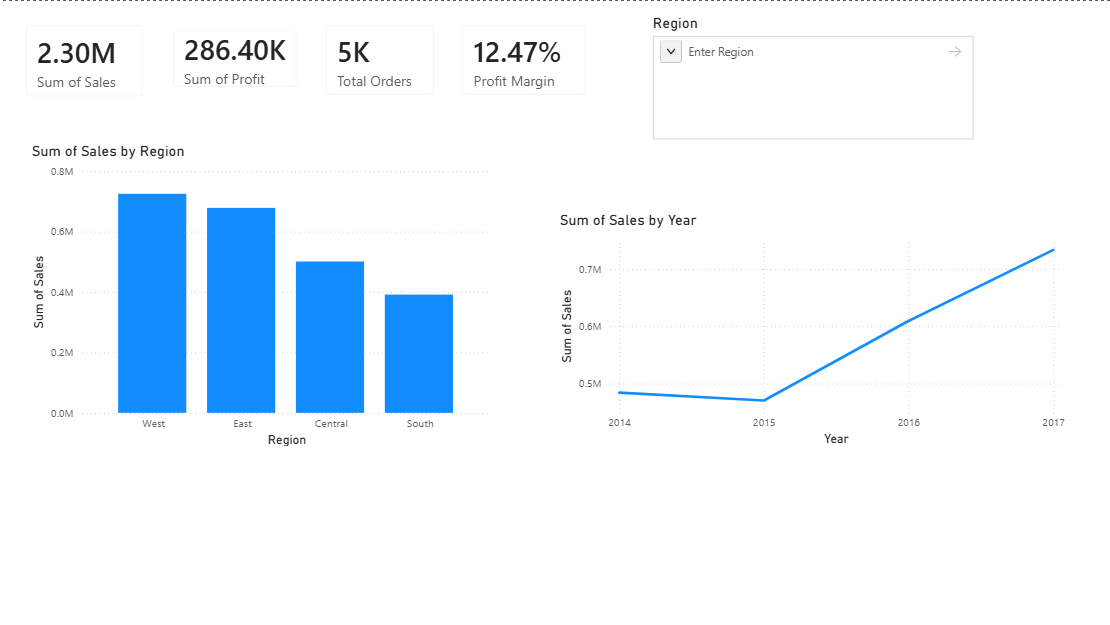

The dashboard page shown, as its layout file describes it:
{"tool":"powerbi","page":{"name":"Executive Dashboard","canvas":[1280,720],"ordinal":0},"visuals":[{"type":"cardVisual","fields":{"Data":["Sum(superstore_cleaned.Sales)"]},"box":[14,10,168,116],"z":0},{"type":"cardVisual","fields":{"Data":["Sum(superstore_cleaned.Profit)"]},"box":[182,16,176,100],"z":1},{"type":"cardVisual","fields":{"Data":["superstore_cleaned.Total Orders"]},"box":[358,10,158,114],"z":2},{"type":"cardVisual","fields":{"Data":["superstore_cleaned.Profit Margin"]},"box":[516,10,176,114],"z":4},{"type":"clusteredColumnChart","fields":{"Category":["superstore_cleaned.Region"],"Y":["Sum(superstore_cleaned.Sales)"]},"box":[32,162,538,354],"z":5},{"type":"lineChart","fields":{"Category":["superstore_cleaned.Order Date.Variation.Date Hierarchy.Year","superstore_cleaned.Order Date.Variation.Date Hierarchy.Month"],"Y":["Sum(superstore_cleaned.Sales)"]},"box":[640,242,590,274],"z":6},{"type":"textSlicer","fields":{"Values":["superstore_cleaned.Region"]},"box":[746,16,378,148],"z":7}]}

Visuals, with their boxes in screenshot pixels (x1, y1, x2, y2), scaled from the page's 1280x720 canvas onto the 1110x625 screenshot:
cardVisual - Sum(superstore_cleaned.Sales): (x1=12, y1=9, x2=158, y2=109)
cardVisual - Sum(superstore_cleaned.Profit): (x1=158, y1=14, x2=310, y2=101)
cardVisual - superstore_cleaned.Total Orders: (x1=310, y1=9, x2=447, y2=108)
cardVisual - superstore_cleaned.Profit Margin: (x1=447, y1=9, x2=600, y2=108)
clusteredColumnChart - superstore_cleaned.Region x Sum(superstore_cleaned.Sales): (x1=28, y1=141, x2=494, y2=448)
lineChart - superstore_cleaned.Order Date.Variation.Date Hierarchy.Year x superstore_cleaned.Order Date.Variation.Date Hierarchy.Month: (x1=555, y1=210, x2=1067, y2=448)
textSlicer - superstore_cleaned.Region: (x1=647, y1=14, x2=975, y2=142)
